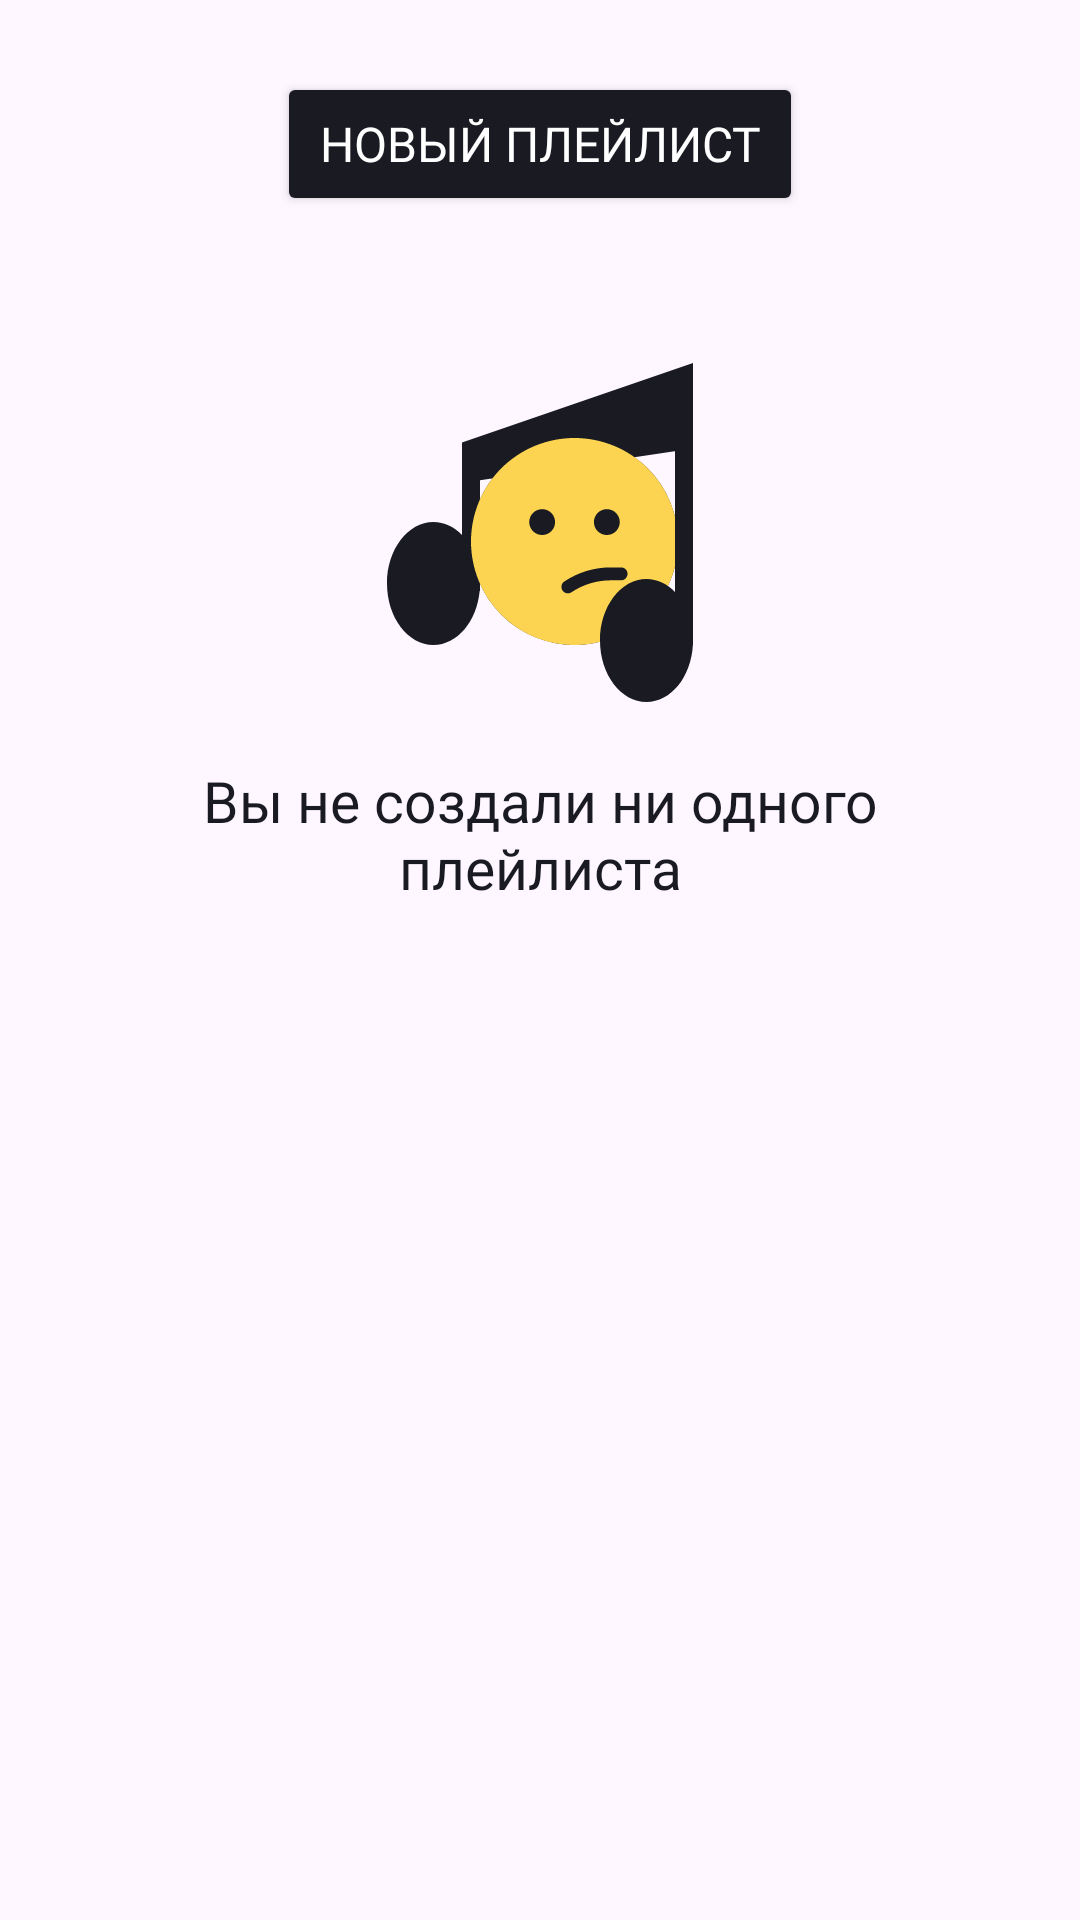

Named icons in this screenshot (1080px x 1920px) and their bounding boxes, (x1, y1, x2, y2):
no results: (387, 363, 693, 702)
